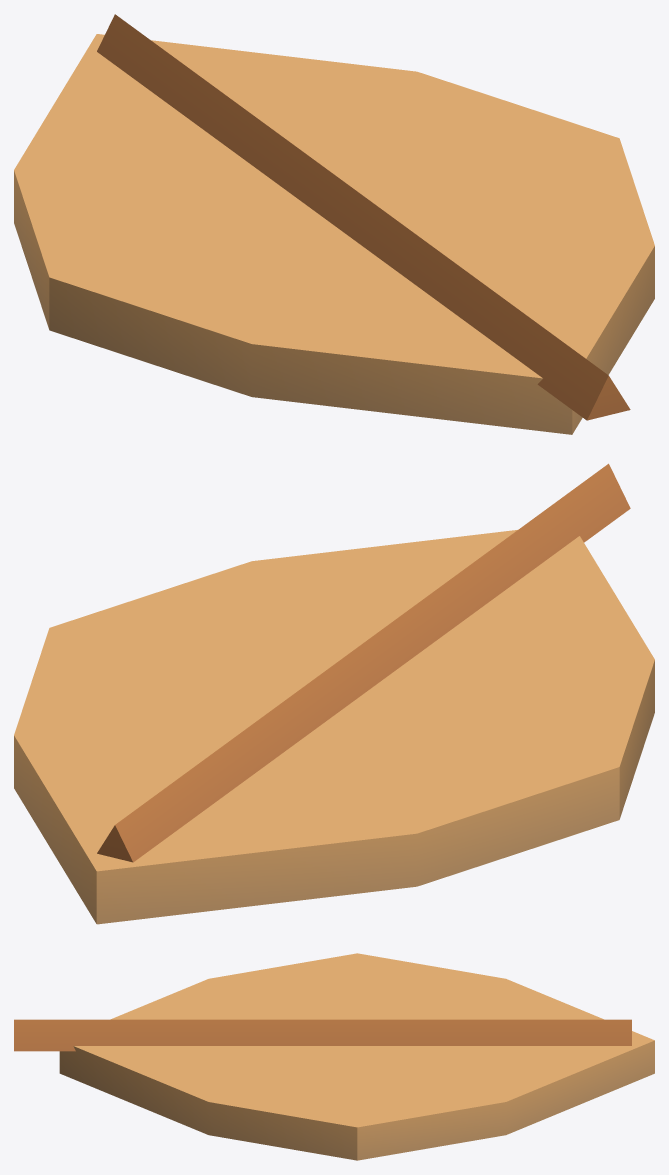
Rendered from tiny_leaf.glb.
The picture shows the model from 3 angles, top to bottom: view 1: azimuth 30°, elevation 25°; view 2: azimuth 150°, elevation 25°; view 3: azimuth 270°, elevation 25°; orthographic projection. The views are drawn at different scales.
Parts seen in each view (by area): view 1: tiny_leaf; view 2: tiny_leaf; view 3: tiny_leaf.
Boxes of the visible parts, left/top/right/bottom form: tiny_leaf: left=14, top=14, right=654, bottom=434; tiny_leaf: left=14, top=463, right=654, bottom=924; tiny_leaf: left=14, top=953, right=654, bottom=1160.
Size of the model in its own units: 0.09 by 0.013 by 0.14.
